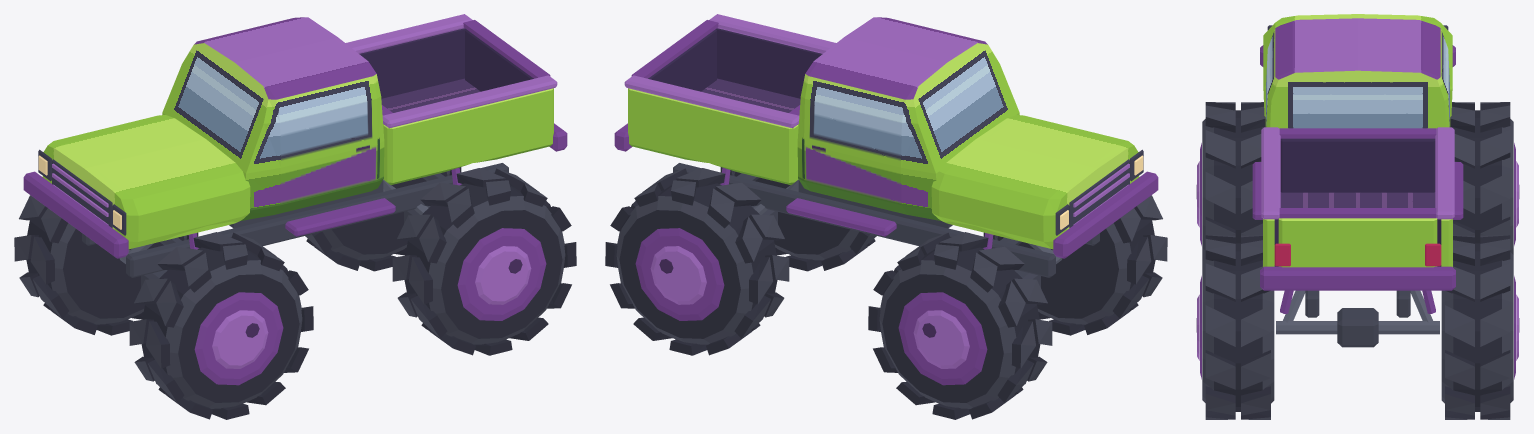
The picture shows the model from 3 angles, left to right: view 1: azimuth 30°, elevation 25°; view 2: azimuth 150°, elevation 25°; view 3: azimuth 270°, elevation 25°; orthographic projection. The views are drawn at different scales.
Visible parts, largest first — view 1: Body_static, Wheel_FL_tire_hub, Wheel_RL_tire_hub, Wheel_FR_tire_hub, Wheel_RR_tire_hub; view 2: Body_static, Wheel_FR_tire_hub, Wheel_RR_tire_hub, Wheel_FL_tire_hub, Wheel_RL_tire_hub; view 3: Body_static, Wheel_RL_tire_hub, Wheel_RR_tire_hub, Wheel_FL_tire_hub, Wheel_FR_tire_hub.
Boxes of the visible parts, box(x1,y1,x2,y2) form: Body_static: box(23, 14, 567, 287); Wheel_FL_tire_hub: box(129, 232, 313, 419); Wheel_RL_tire_hub: box(392, 168, 576, 355); Wheel_FR_tire_hub: box(14, 195, 198, 335); Wheel_RR_tire_hub: box(305, 167, 461, 271); Body_static: box(614, 14, 1158, 287); Wheel_FR_tire_hub: box(868, 232, 1052, 419); Wheel_RR_tire_hub: box(605, 168, 789, 355); Wheel_FL_tire_hub: box(983, 195, 1167, 335); Wheel_RL_tire_hub: box(720, 167, 876, 271); Body_static: box(1252, 14, 1463, 347); Wheel_RL_tire_hub: box(1196, 235, 1274, 419); Wheel_RR_tire_hub: box(1441, 235, 1519, 419); Wheel_FL_tire_hub: box(1196, 102, 1265, 254); Wheel_FR_tire_hub: box(1450, 102, 1519, 254).
Bounding box in the file's own units: 86.96 × 52.17 × 51.69.
Materials: 1 (1 with a texture image).
